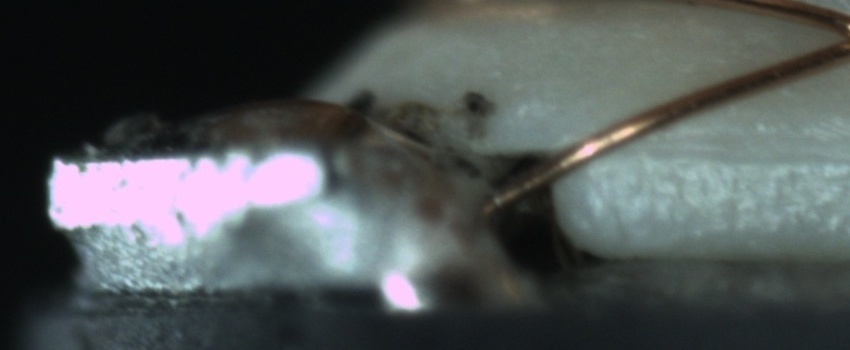CL: (814, 11, 849, 61)
DL: (627, 110, 844, 185)
